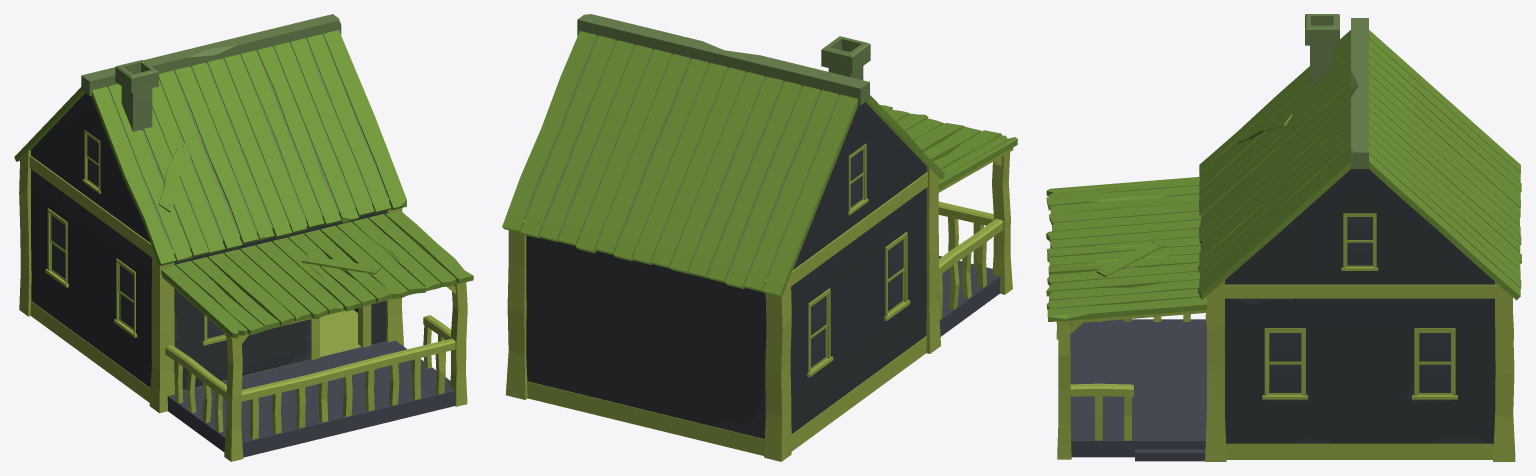
File: House_05.fbx
3 renders of one model, left to right at view 1: azimuth 30°, elevation 25°; view 2: azimuth 150°, elevation 25°; view 3: azimuth 270°, elevation 25°, orthographic. The views are drawn at different scales.
Parts seen in each view (by area): view 1: House_05; view 2: House_05; view 3: House_05.
Boxes of the visible parts, left/top/right/bottom form: House_05: left=14, top=14, right=473, bottom=461; House_05: left=502, top=14, right=1017, bottom=461; House_05: left=1046, top=14, right=1521, bottom=461.
Bounding box in the file's own units: 5.3 × 6.01 × 7.92.
